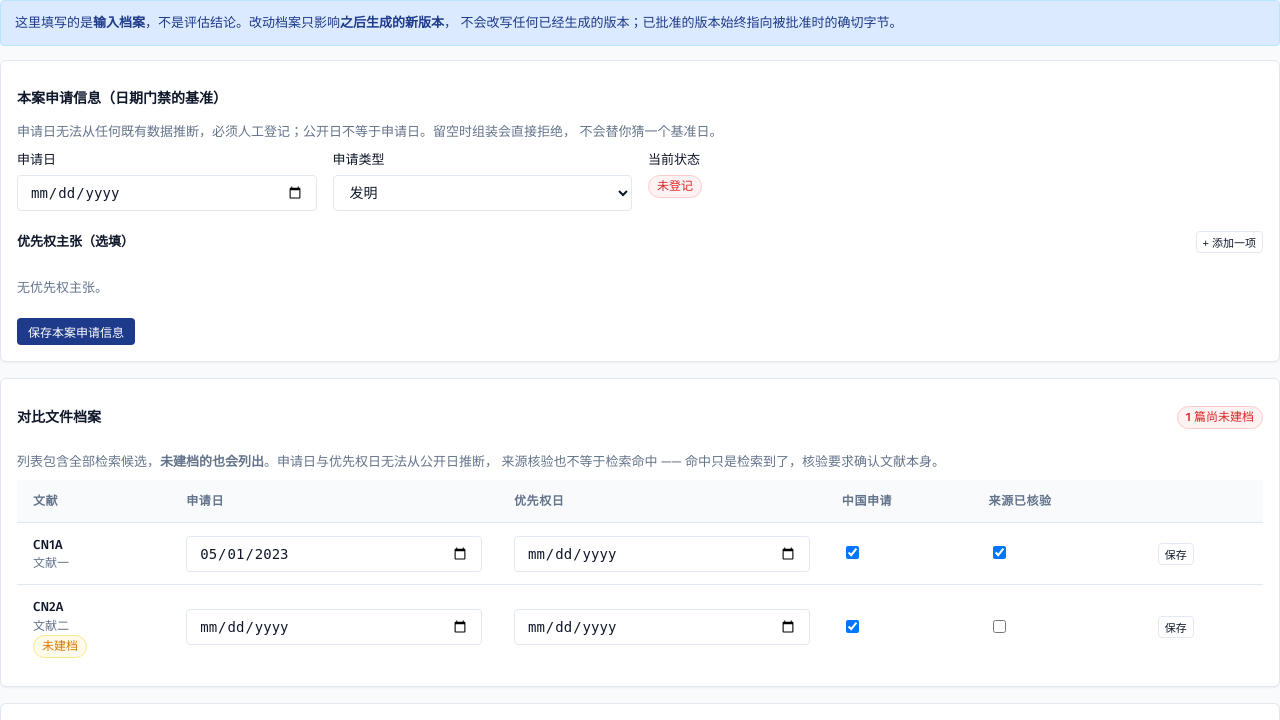
Test: Pre-assessment input panel › refuses to save without a filing date rather than sending a blank baseline
The image size is (1280, 720).
Expected: the heading "本案申请信息（日期门禁的基准）" is shown, [17, 90, 227, 107]
Click the button "保存本案申请信息". click: point(76, 332)
box: [17, 318, 135, 345]
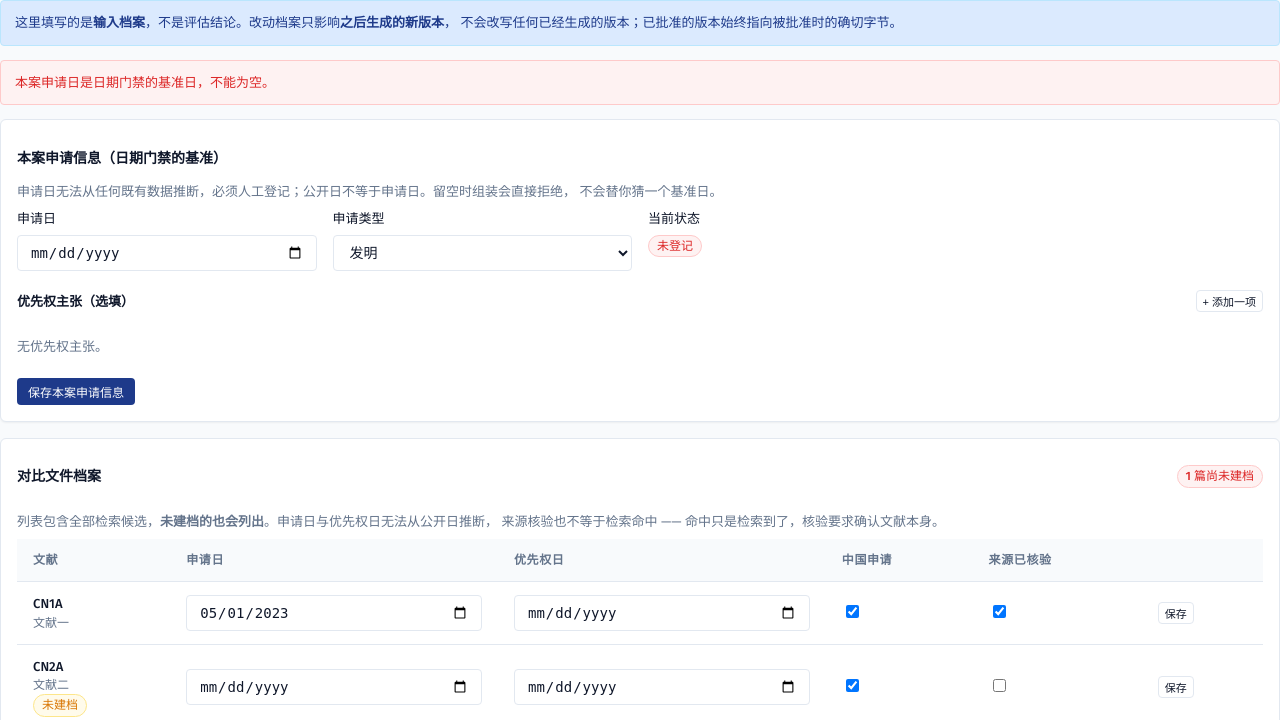
Expected: the text "本案申请日是日期门禁的基准日，不能为空。" is shown, [15, 74, 275, 90]
